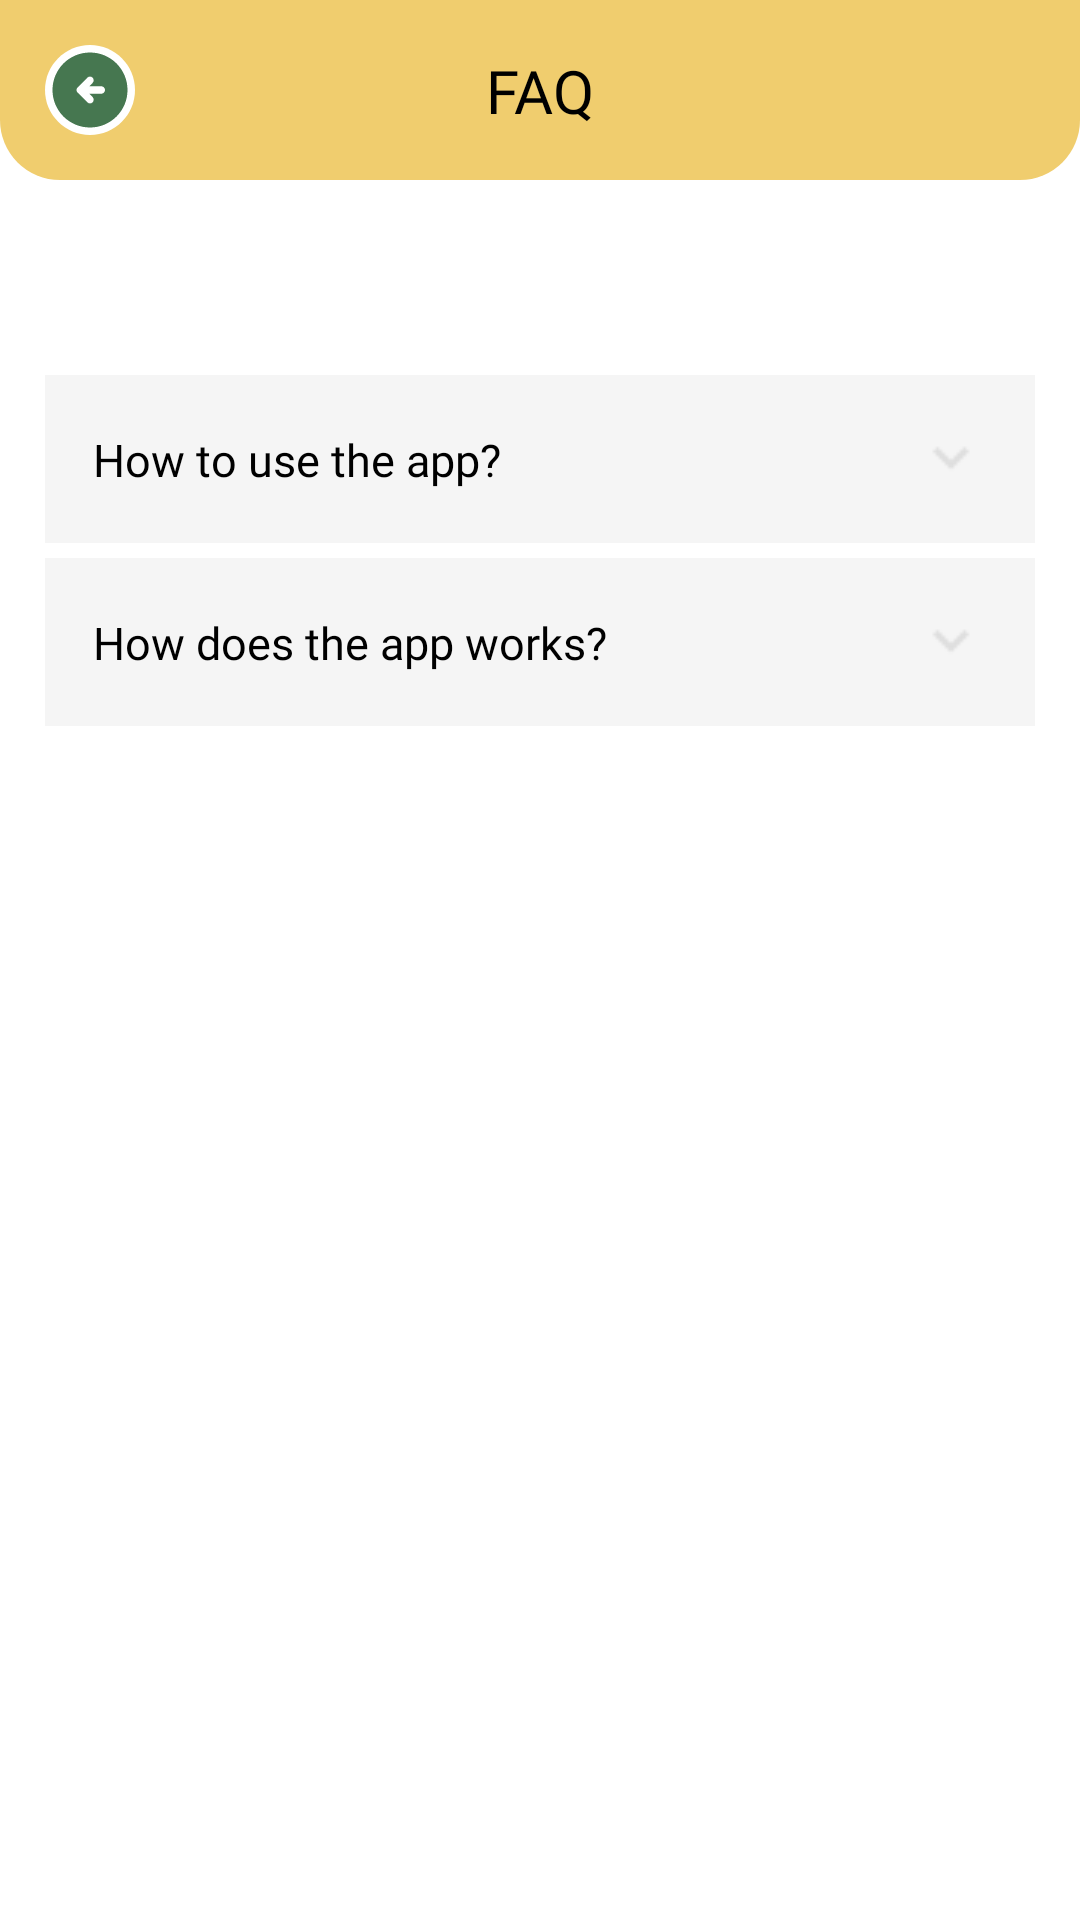

Icons on this 1080px×1920px Android screen, each with its box as (x1, y1, x2, y2):
Back: (45, 45, 135, 135)
